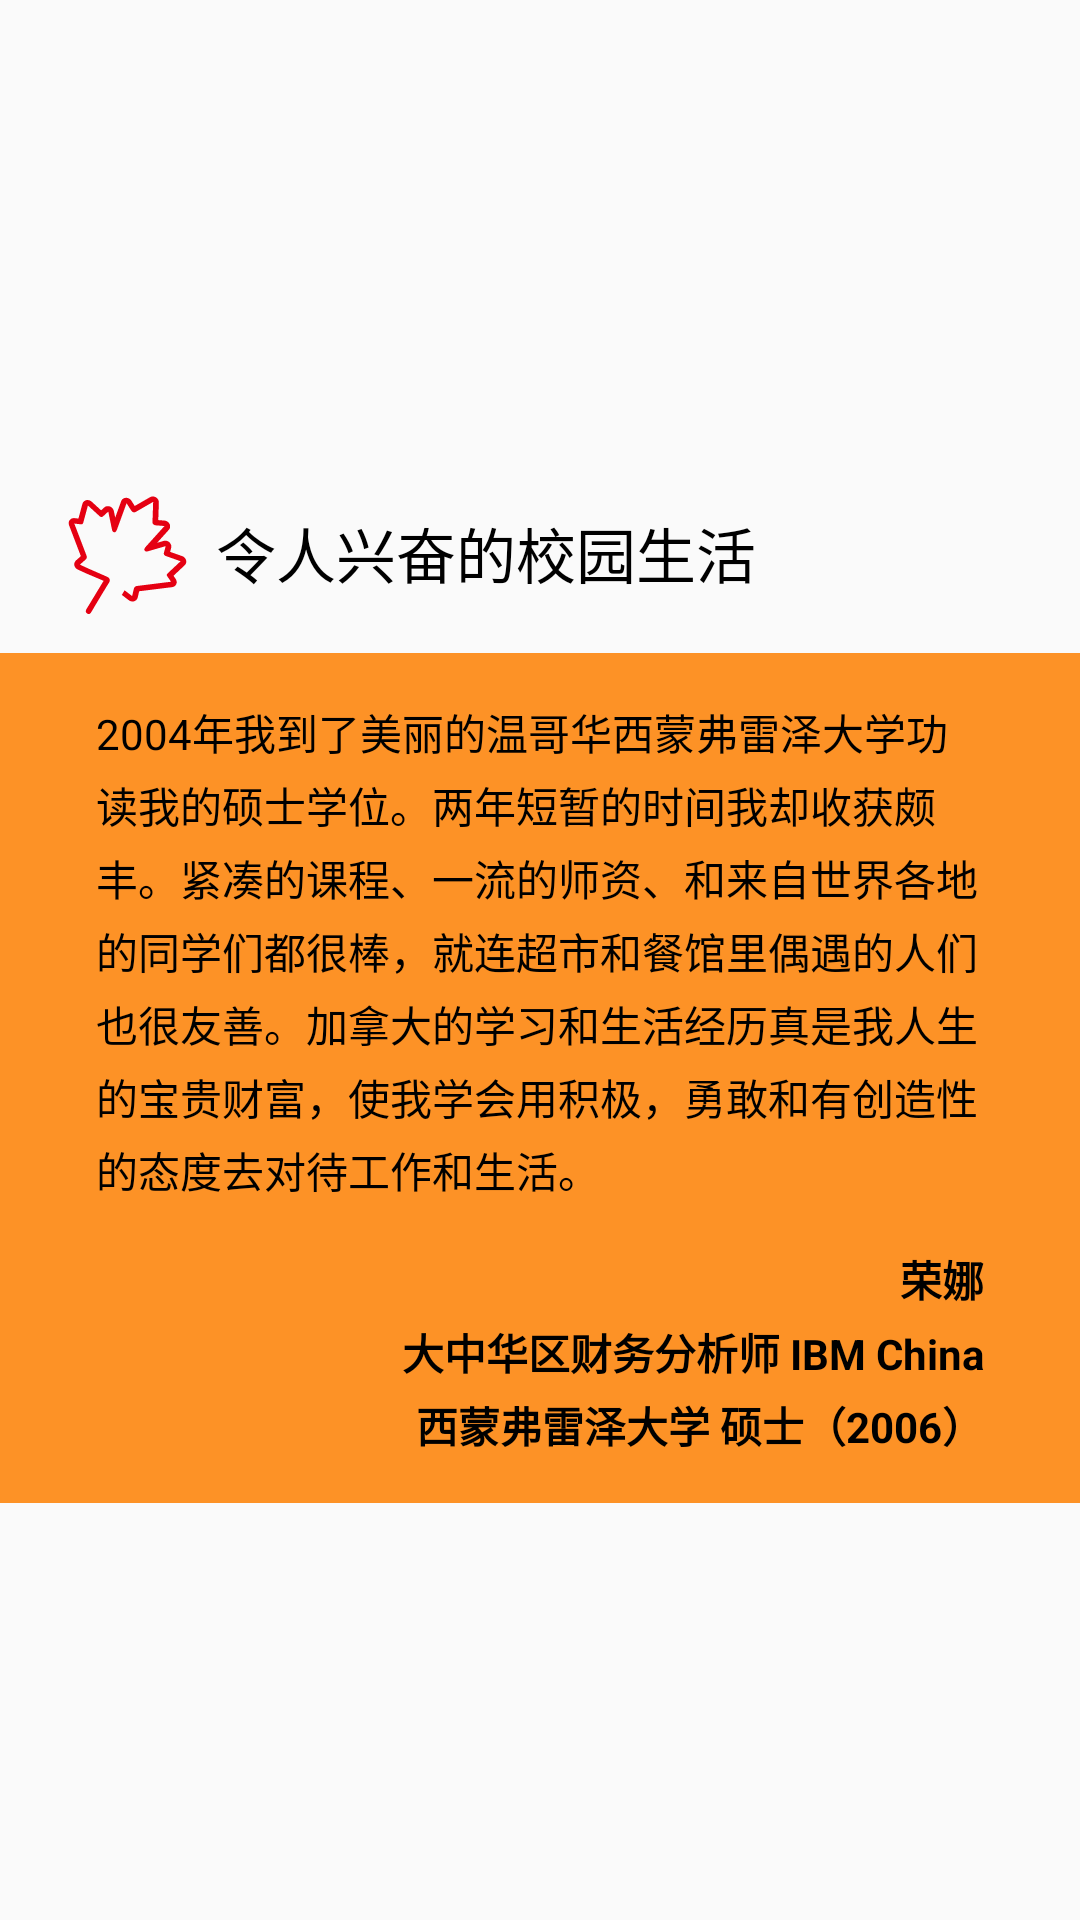

Where icons sit on this 1080x1920 app screen, as bbox(x1, y1, x2, y2):
leaf: bbox(68, 496, 187, 614)
